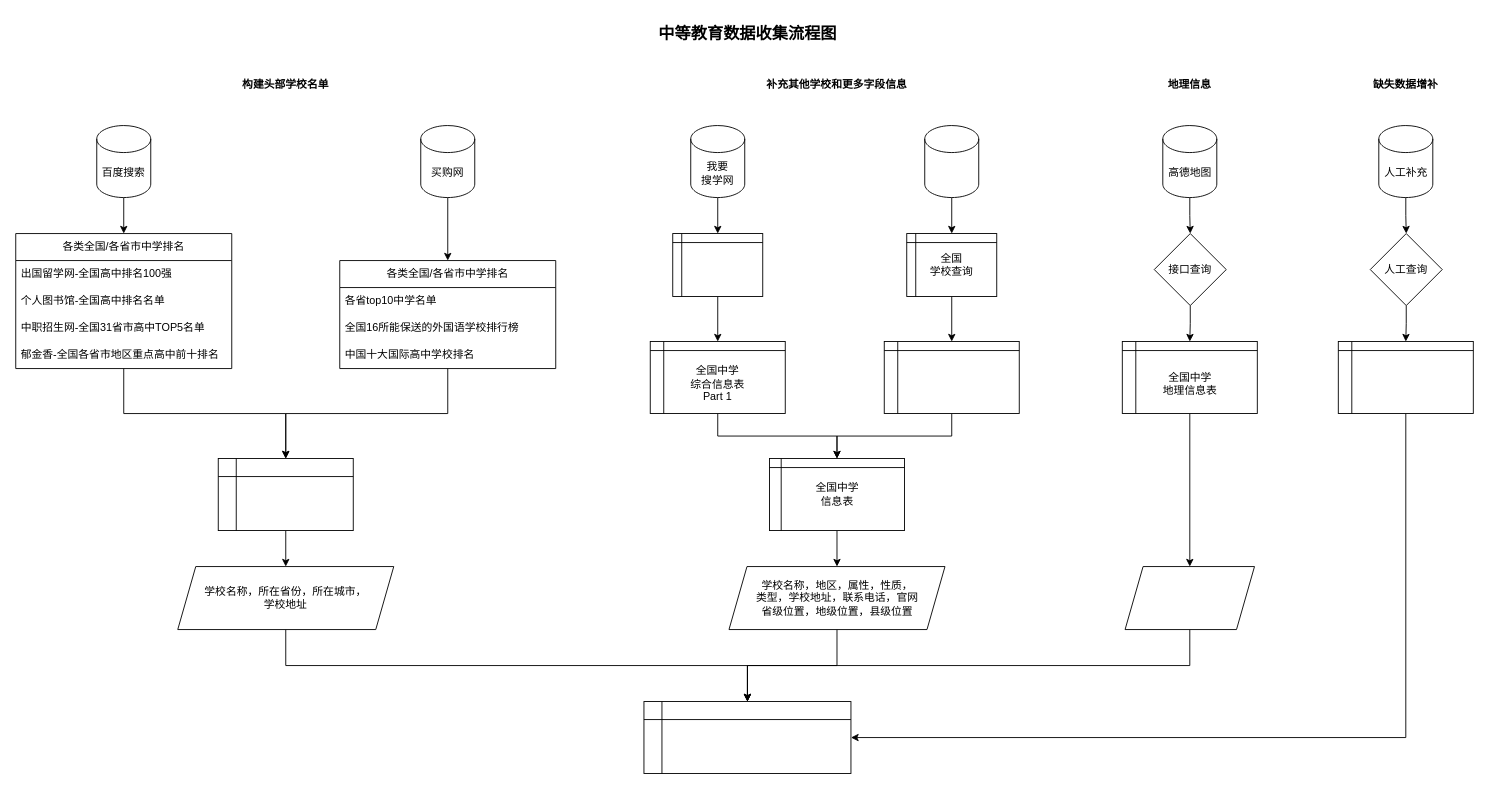
Image size: 1496x789. Some labels were removed from this diagram. The shapes that lost their labels are listed below. From the top down, each one's centre as x and y in pixels, then its label:
At point 951,161: "学校大全".
At point 717,265: "中学列表".
At point 951,377: "全国中学 综合信息表 Part 2".
At point 1405,377: "全国中学 信息补充表".
At point 285,494: "全国 头部中学名单".
At point 1189,598: "经度、纬度".
At point 747,737: "中等教育数据宽表".
